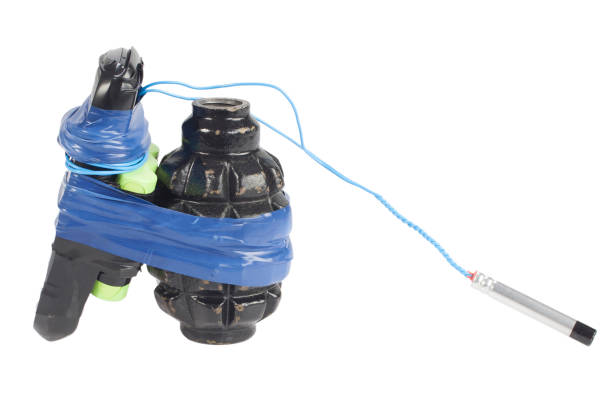e1: (147, 93, 302, 353)
